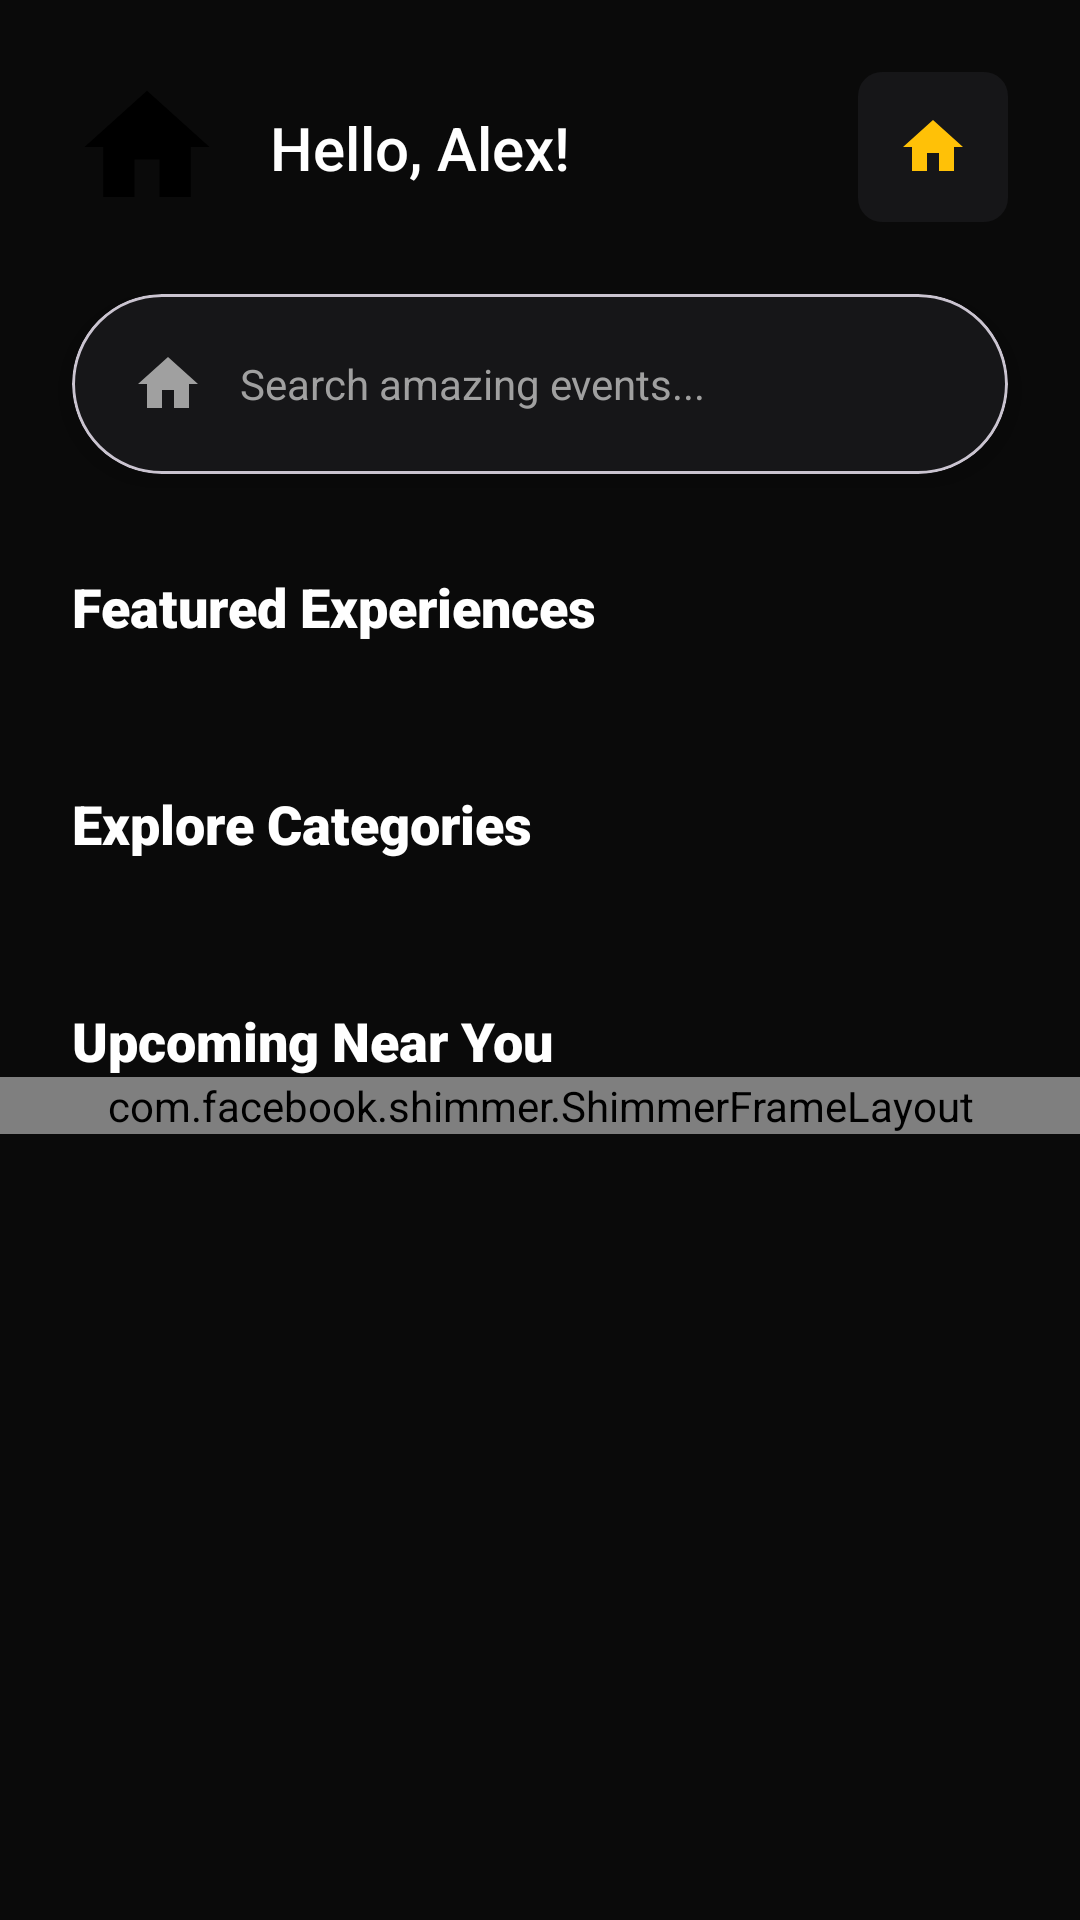

Where icons sit on this 1080×1920 app screen, as (x1, y1, x2, y2):
home: (903, 120, 963, 171), (138, 357, 198, 408)
